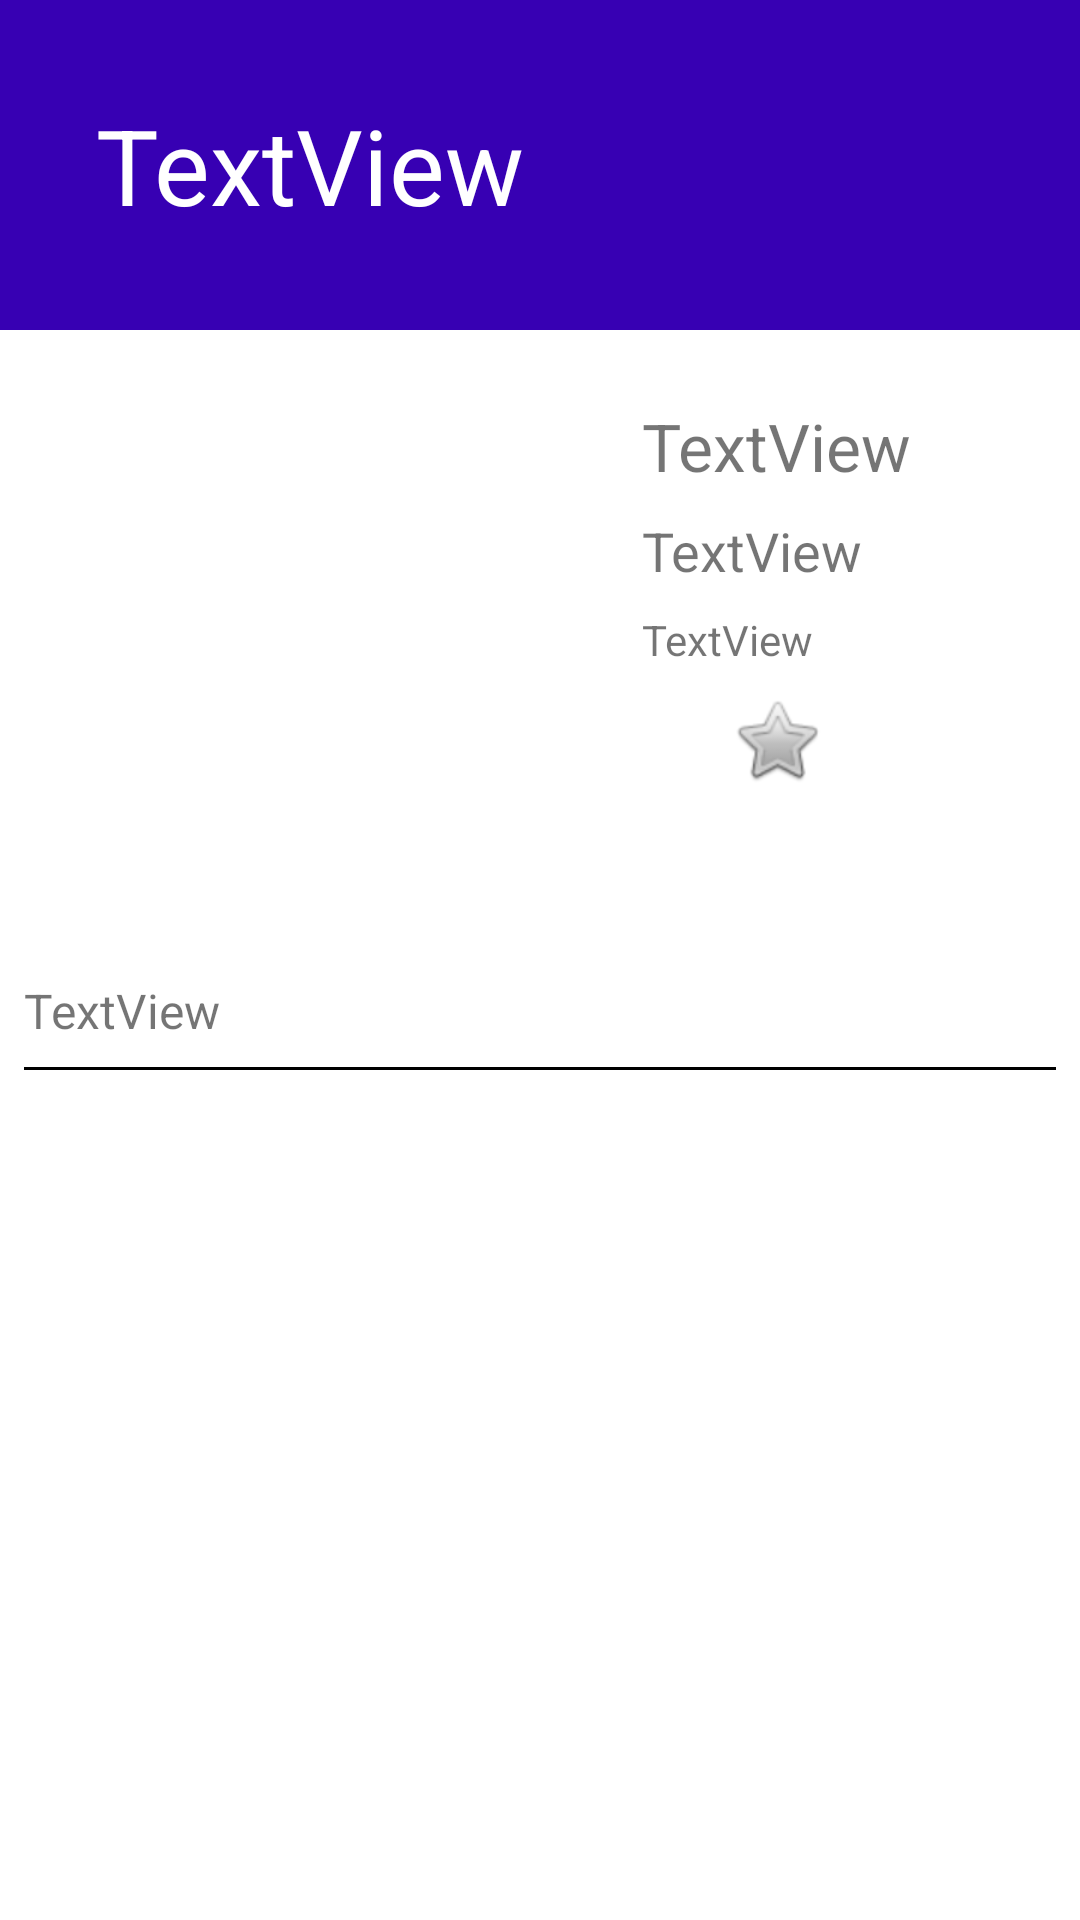

Icons on this 1080 x 1920 Android screen, each with its box as {"x1": x1, "y1": y1, "x2": x2, "y2": y2}:
star off: {"x1": 738, "y1": 702, "x2": 818, "y2": 780}
